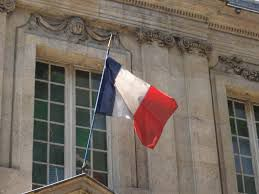French Flag: (94, 56, 178, 149)
